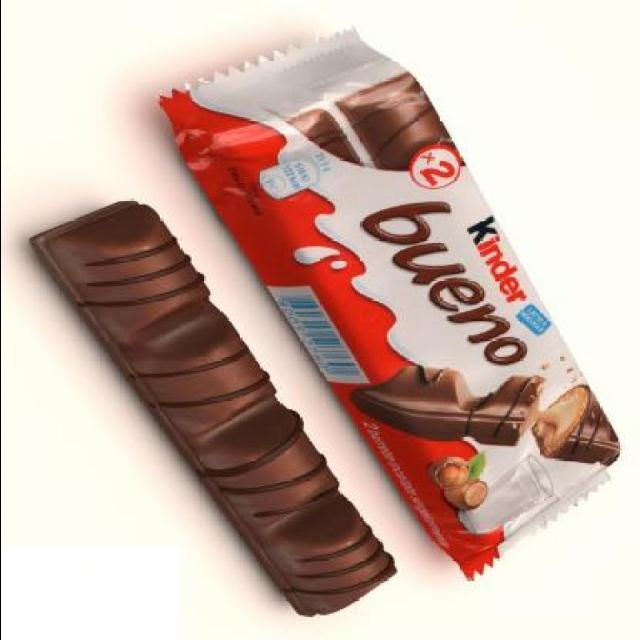Chocolate bar: (160, 28, 622, 577)
Chocolate bar packaged: (27, 199, 396, 616)
